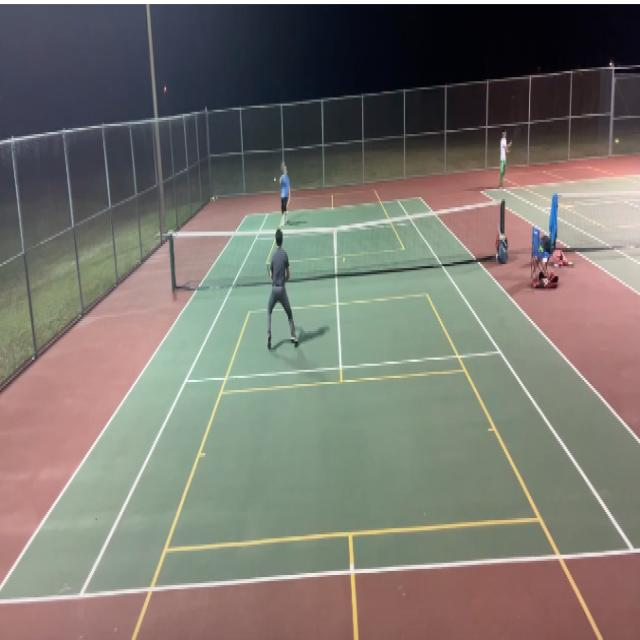ball: (210, 196, 213, 202), (212, 196, 215, 201), (274, 176, 276, 182), (343, 258, 345, 262), (216, 196, 218, 199)
